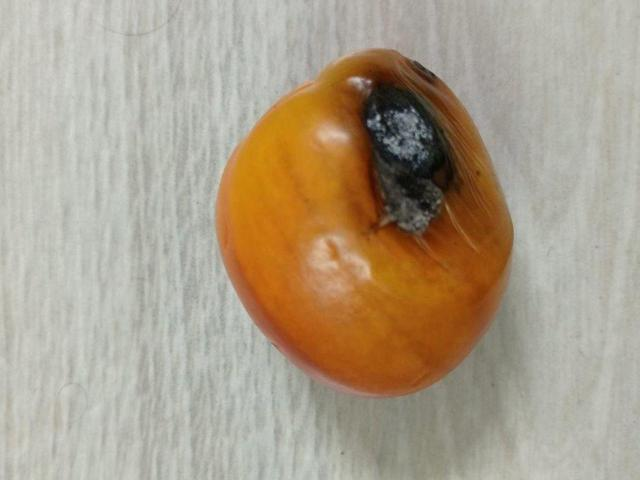defect: (211, 43, 518, 400)
